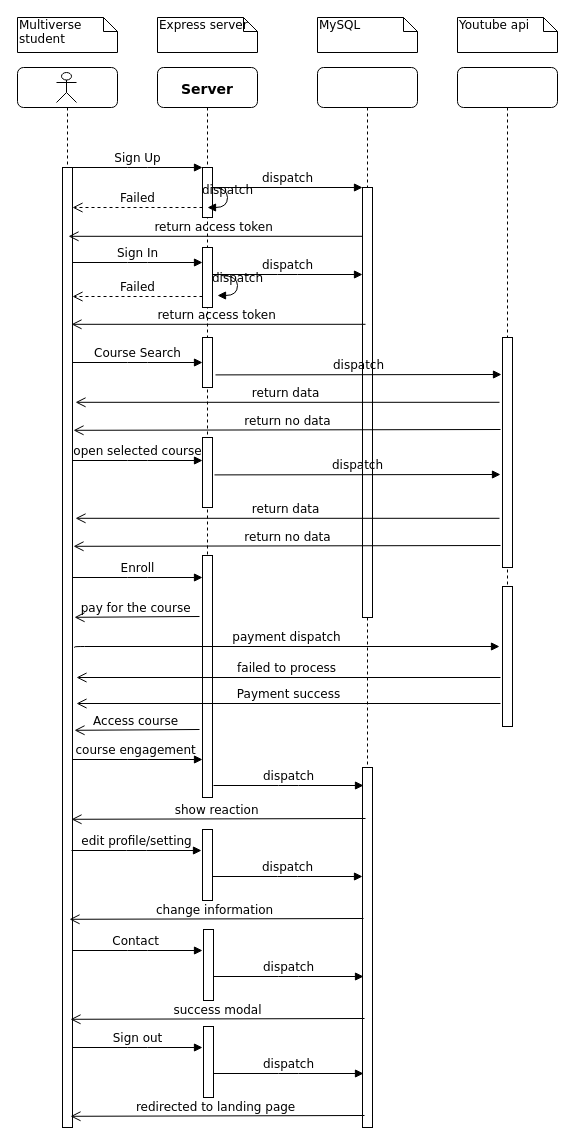
This 575x1145 diagram has some shape labels left out. Here are the shapes that lost their labels. From the top down, the centre of each, then its label:
At (66,87): "User".
At (507,357): "External API".
At (367,597): "Data Base".
